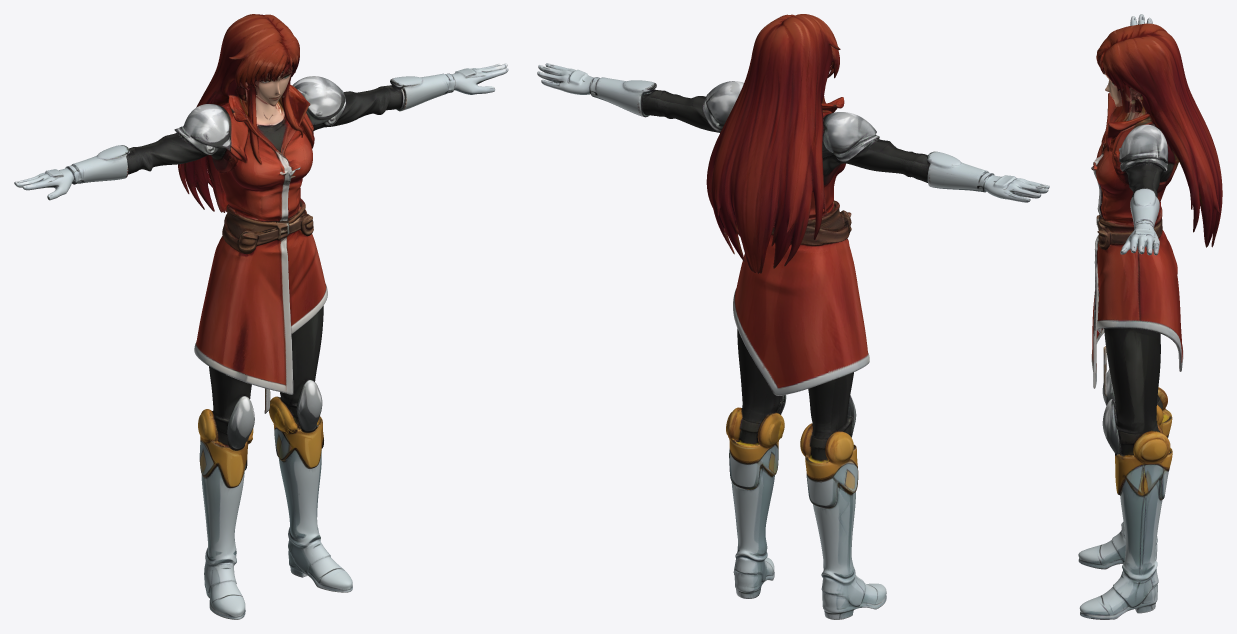
Rendered from alys_base.glb.
3 renders of one model, left to right at view 1: azimuth 30°, elevation 25°; view 2: azimuth 150°, elevation 25°; view 3: azimuth 270°, elevation 25°, orthographic. The views are drawn at different scales.
Bounding box in the file's own units: 1.73 × 1.9 × 0.4427.
Materials: 1 (1 with a texture image).
